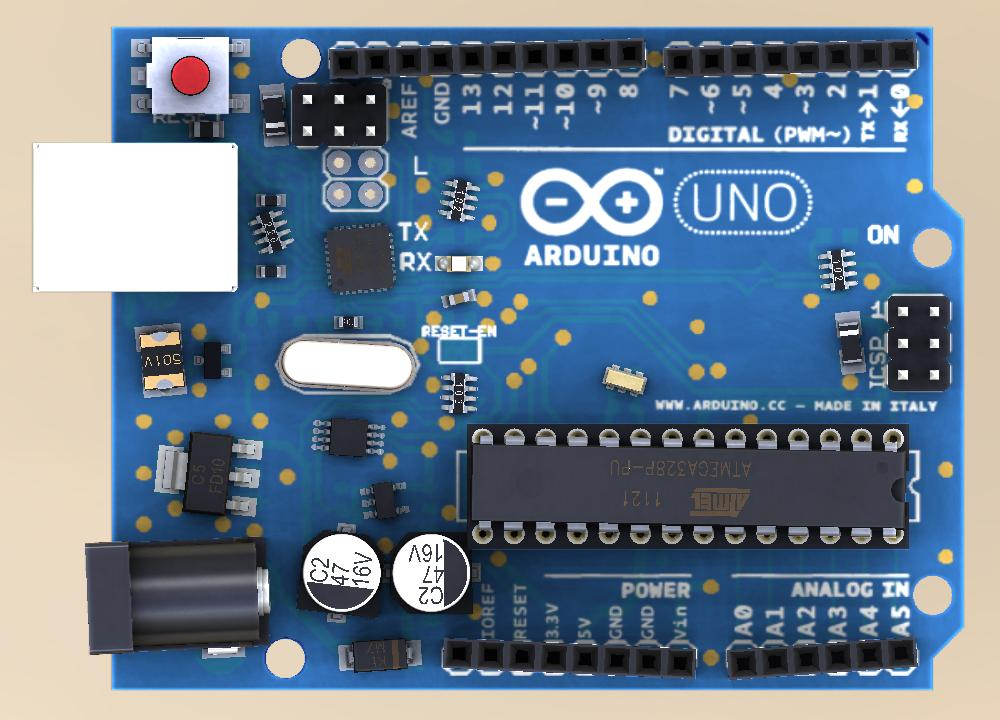16MHz Crystal: (600, 361, 650, 399)
47uF CAP: (301, 529, 385, 617), (393, 530, 474, 614)
ATMEL328P: (469, 429, 909, 549)
ATMega16u2: (321, 221, 401, 296)
CD1206: (833, 310, 870, 378), (257, 83, 294, 147)
Capa: (441, 284, 477, 309)
Crystal: (279, 331, 419, 395)
Fuse: (130, 321, 190, 400)
LED: (434, 251, 488, 278)
LMV358: (359, 477, 414, 521)
M7 diode: (336, 634, 425, 677)
Missing: (237, 307, 281, 331), (331, 477, 354, 521), (289, 307, 331, 329), (250, 160, 293, 180), (421, 479, 441, 518)
PIN Header: (889, 294, 952, 389), (294, 84, 386, 147)
Ports: (330, 36, 647, 79), (441, 636, 703, 681), (666, 33, 917, 79), (726, 636, 921, 681)
Power: (84, 539, 271, 655)
Regulator: (136, 417, 278, 535)
Reset: (131, 36, 254, 120)
Resistor: (184, 113, 227, 140), (251, 261, 289, 281), (257, 187, 286, 210)
Resistor pack: (247, 211, 295, 259), (439, 176, 481, 224), (441, 370, 479, 418), (819, 250, 858, 293)
SSOT3: (193, 341, 237, 384)
USB: (33, 140, 241, 297)
lp2985: (309, 416, 387, 462)
